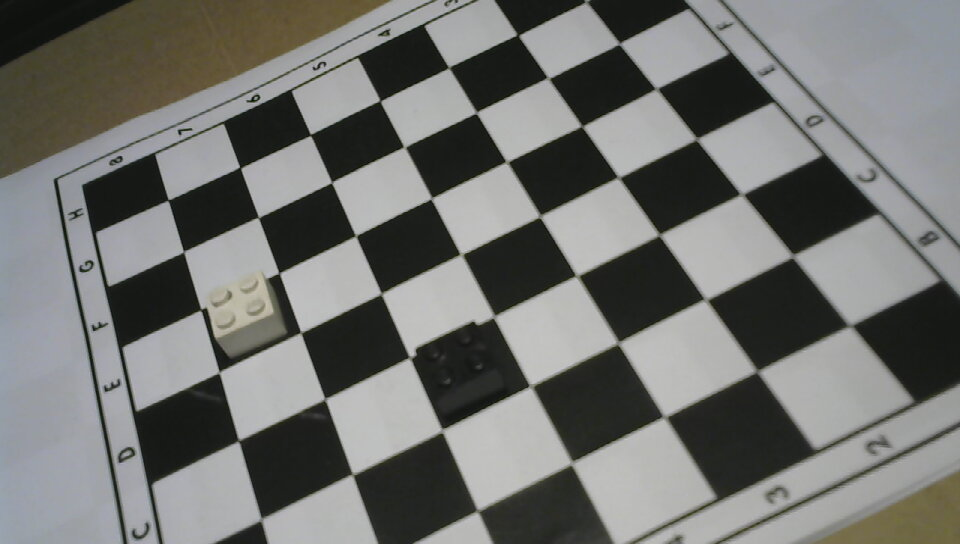bp: (411, 314, 513, 419)
